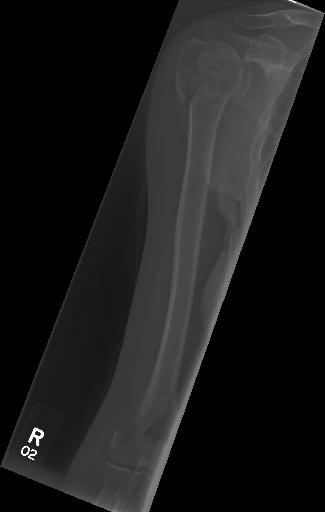humerus: (165, 77, 239, 118)
